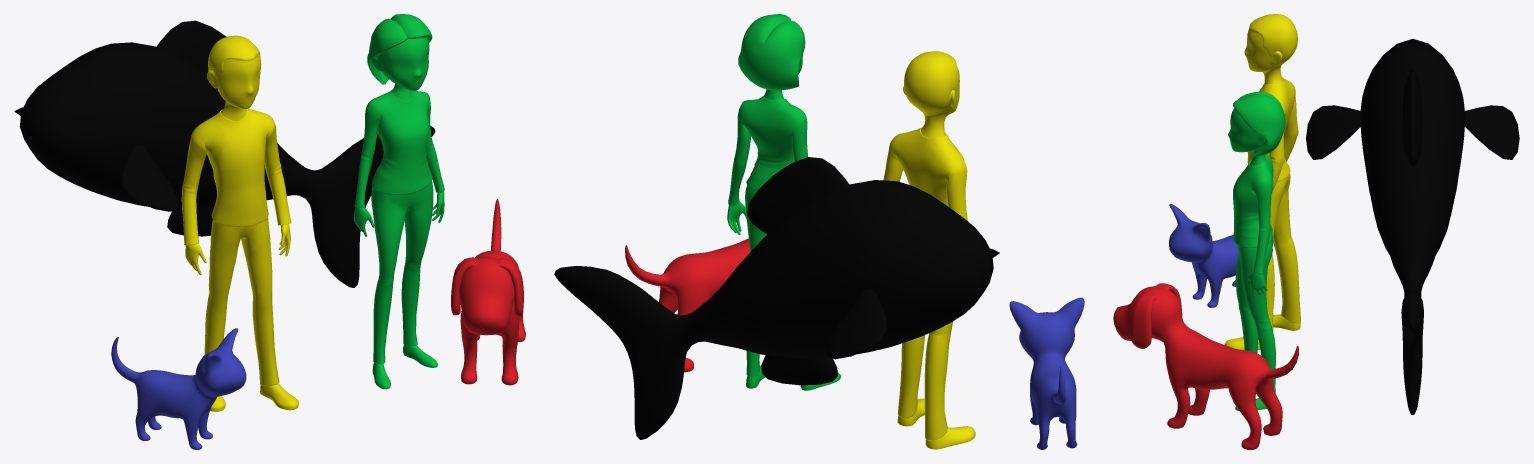
File: 3dmodellersakf.fbx
The picture shows the model from 3 angles, left to right: view 1: azimuth 30°, elevation 25°; view 2: azimuth 150°, elevation 25°; view 3: azimuth 270°, elevation 25°; orthographic projection. The views are drawn at different scales.
Visible parts, largest first — view 1: root (×5); view 2: root (×5); view 3: root (×5).
Part boxes in pixels (box(x1,y1,x2,y2)): root (×5): box(14, 14, 525, 449); root (×5): box(554, 14, 1084, 449); root (×5): box(1113, 14, 1519, 449).
Bounding box in the file's own units: 0.623 × 0.52 × 0.6037.
Materials: 5 (4 with a texture image).
